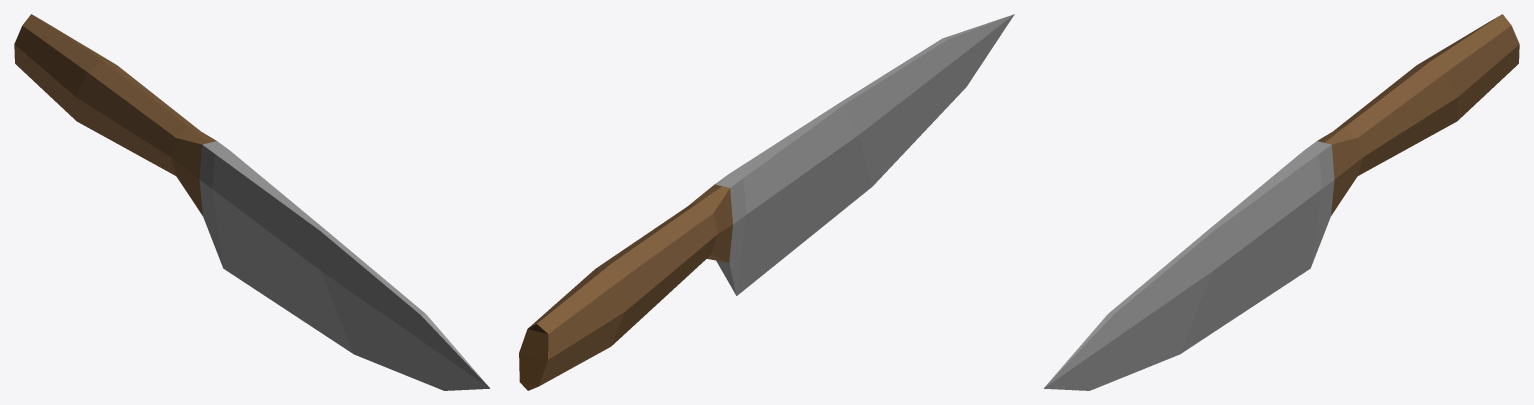
File: knife_1.fbx
The picture shows the model from 3 angles, left to right: view 1: azimuth 30°, elevation 25°; view 2: azimuth 150°, elevation 25°; view 3: azimuth 330°, elevation 25°; orthographic projection. The views are drawn at different scales.
Visible parts, largest first — view 1: knife_1; view 2: knife_1; view 3: knife_1.
Boxes of the visible parts, x1,y1,x2,y2 form: knife_1: (14,14,489,390); knife_1: (519,14,1014,390); knife_1: (1044,14,1519,390).
Size of the model in its own units: 2.76 by 7.78 by 55.21.
Materials: 1 (1 with a texture image).
